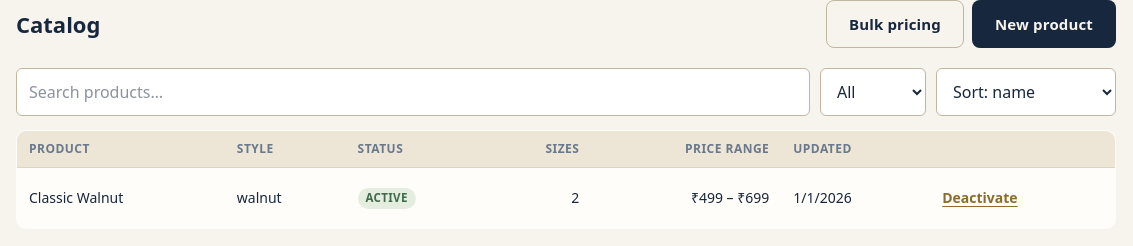
it: CatalogPage › deactivates a product with one click, using its current rowVersion
The image size is (1133, 246).
Check: the link "Classic Walnut" is shown, box x1=29 y1=188 x2=123 y2=207
Click the button with test id "toggle-walnut": (980, 198) x1=938 y1=178 x2=1022 y2=218
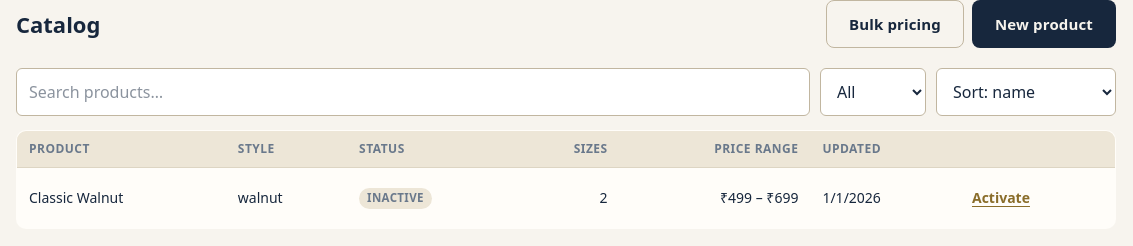
Check: the text "Inactive" is shown, box x1=359 y1=188 x2=432 y2=209
